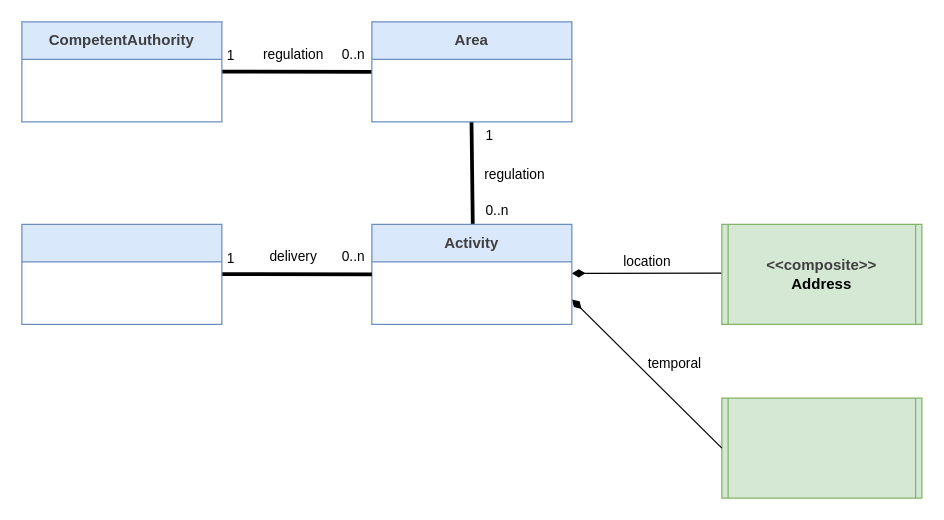
Some shapes in this 944 by 520 pixel diagram are drawn without their labels. The centre of each missing label's shape, as x and y in pixels:
"<<composite>> Temporal" belongs at (x=821, y=447).
"Platform" belongs at (x=121, y=273).
